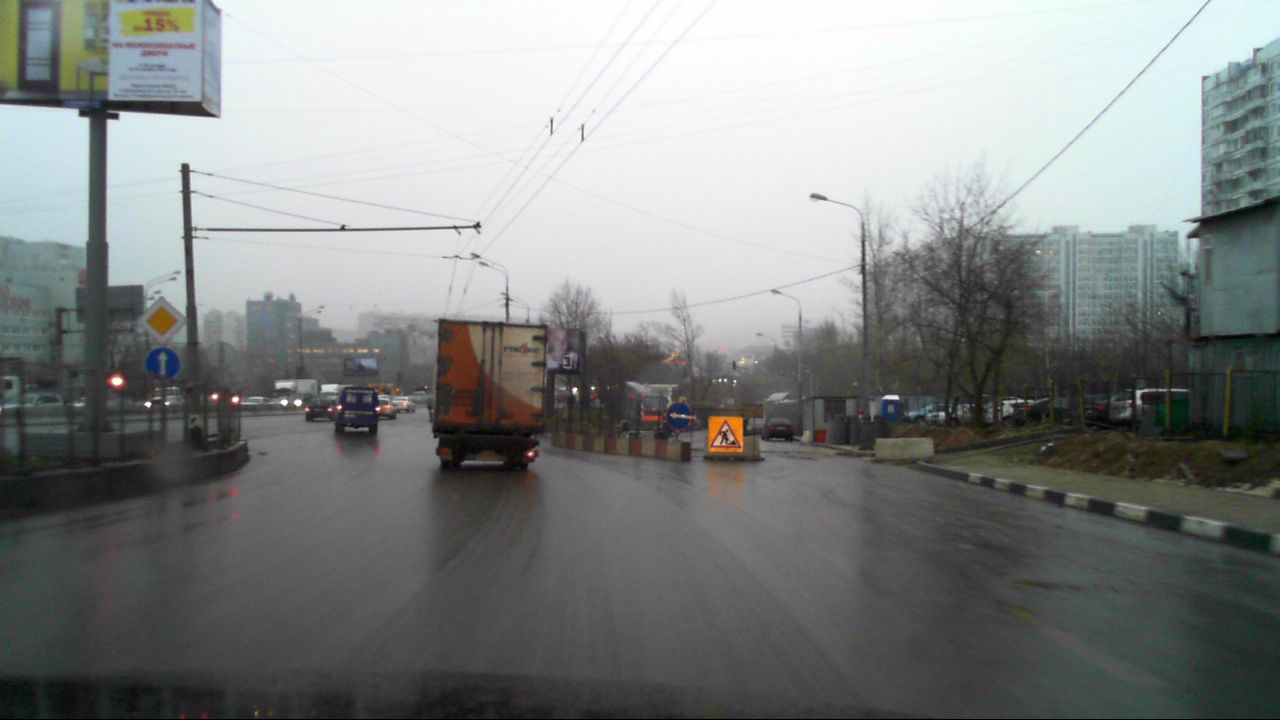Turn Left: (667, 403, 691, 429)
